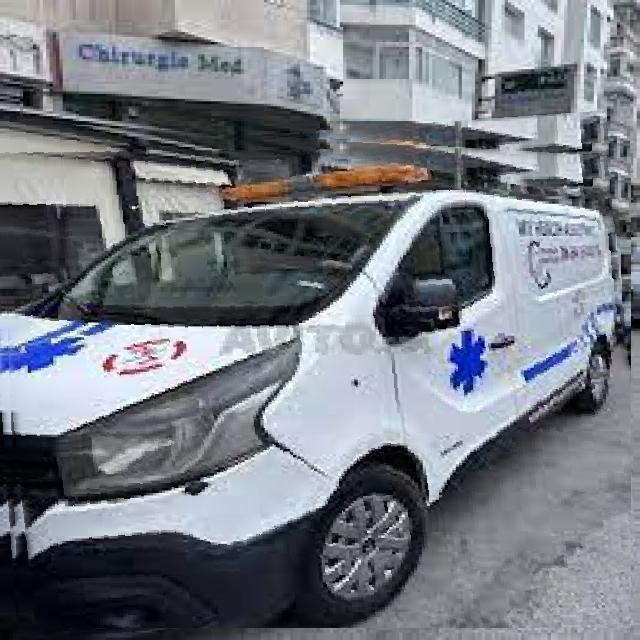ambulance: (0, 120, 631, 628)
